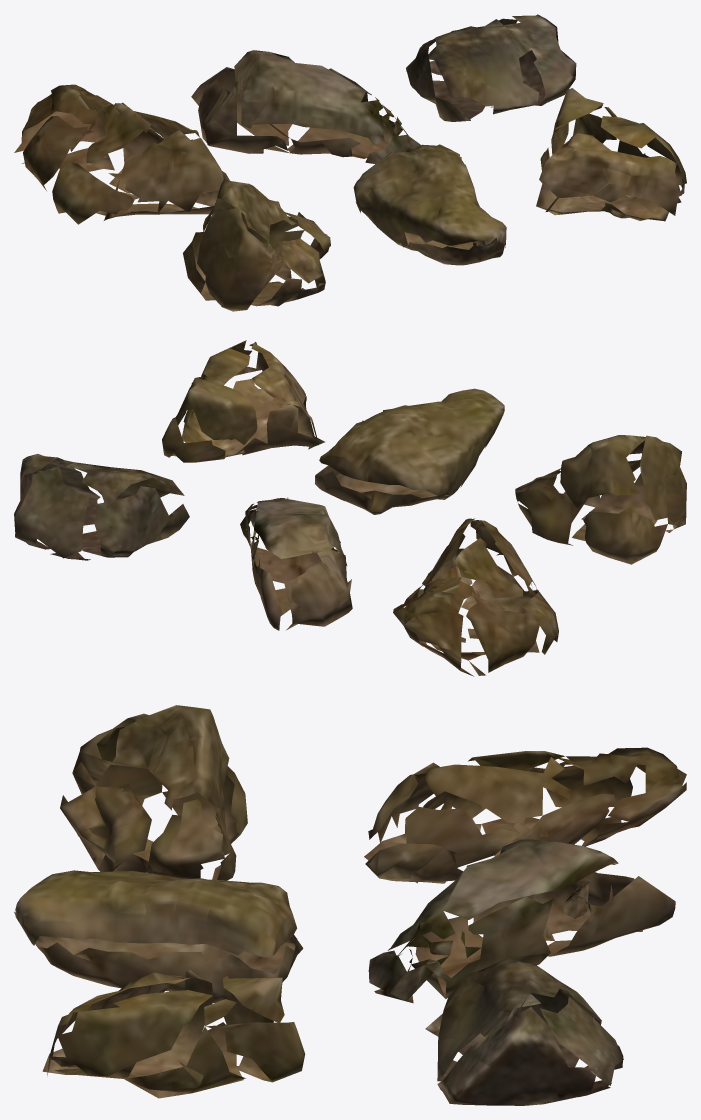
File: rock_moss_set_01.glb
3 views of the same model, one above another, from view 1: azimuth 30°, elevation 25°; view 2: azimuth 150°, elevation 25°; view 3: azimuth 270°, elevation 25° (orthographic). The views are drawn at different scales.
Visible parts, largest first — view 1: rock_moss_set_01_rock01, rock_moss_set_01_rock02, rock_moss_set_01_rock06, rock_moss_set_01_rock04, rock_moss_set_01_rock03, rock_moss_set_01_rock05; view 2: rock_moss_set_01_rock05, rock_moss_set_01_rock04, rock_moss_set_01_rock01, rock_moss_set_01_rock03, rock_moss_set_01_rock06, rock_moss_set_01_rock02; view 3: rock_moss_set_01_rock05, rock_moss_set_01_rock01, rock_moss_set_01_rock02, rock_moss_set_01_rock04, rock_moss_set_01_rock06, rock_moss_set_01_rock03.
Boxes of the visible parts, x1,y1,x2,y2 form: rock_moss_set_01_rock01: [14, 84, 229, 224]; rock_moss_set_01_rock02: [191, 50, 420, 163]; rock_moss_set_01_rock06: [536, 88, 686, 221]; rock_moss_set_01_rock04: [183, 179, 330, 311]; rock_moss_set_01_rock03: [406, 14, 576, 121]; rock_moss_set_01_rock05: [353, 144, 506, 265]; rock_moss_set_01_rock05: [315, 388, 504, 514]; rock_moss_set_01_rock04: [515, 435, 686, 564]; rock_moss_set_01_rock01: [393, 518, 558, 676]; rock_moss_set_01_rock03: [14, 454, 189, 560]; rock_moss_set_01_rock06: [162, 340, 324, 462]; rock_moss_set_01_rock02: [240, 497, 352, 630]; rock_moss_set_01_rock05: [14, 870, 303, 1002]; rock_moss_set_01_rock01: [364, 747, 686, 883]; rock_moss_set_01_rock02: [368, 839, 675, 1003]; rock_moss_set_01_rock04: [60, 705, 247, 880]; rock_moss_set_01_rock06: [42, 970, 305, 1098]; rock_moss_set_01_rock03: [425, 958, 623, 1105].
Bounding box in the file's own units: 7.98 × 1.68 × 6.91.
Materials: 1 (1 with a texture image).
